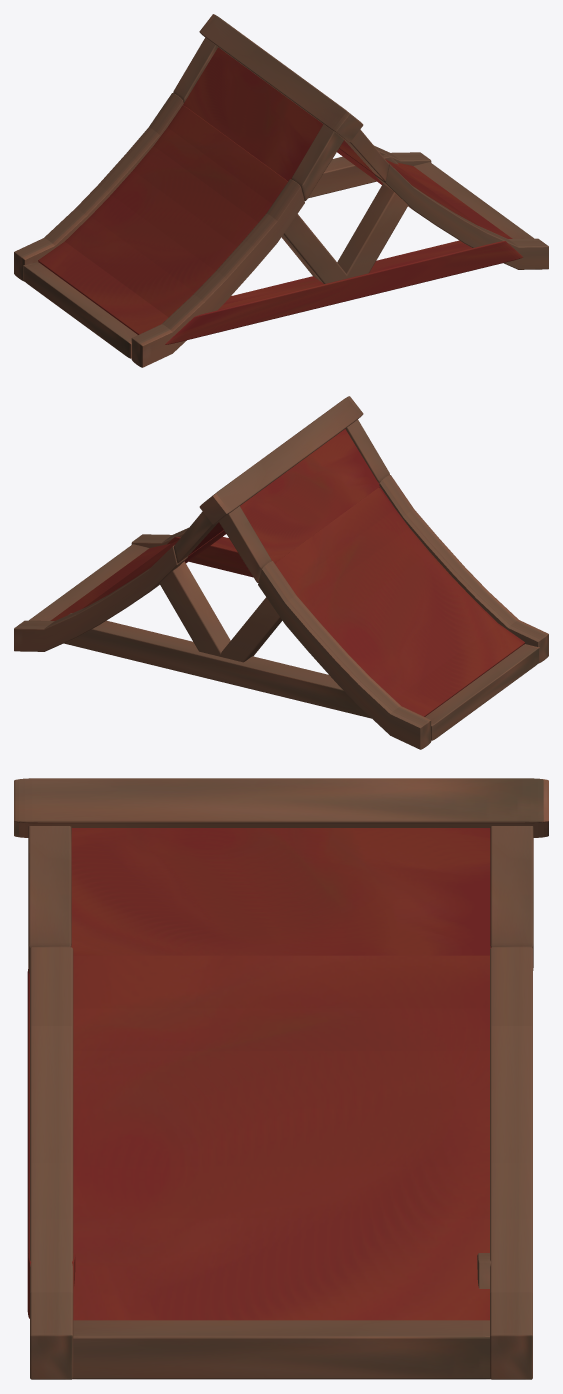
File: Mine_Entrance_Roof.fbx
3 renders of one model, top to bottom at view 1: azimuth 30°, elevation 25°; view 2: azimuth 150°, elevation 25°; view 3: azimuth 270°, elevation 25°, orthographic. The views are drawn at different scales.
Visible parts, largest first — view 1: Cube.011; view 2: Cube.011; view 3: Cube.011.
Boxes of the visible parts, left/top/right/bottom form: Cube.011: left=14, top=14, right=548, bottom=367; Cube.011: left=14, top=396, right=548, bottom=749; Cube.011: left=14, top=778, right=548, bottom=1379.
Bounding box in the file's own units: 11.86 × 6.89 × 5.81.
Materials: 16 (16 with a texture image).
